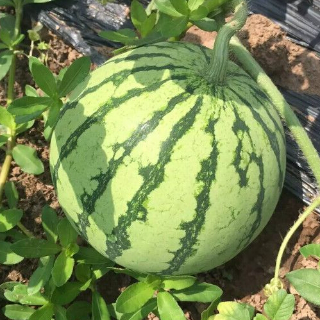dua_hau: (43, 39, 288, 279)
